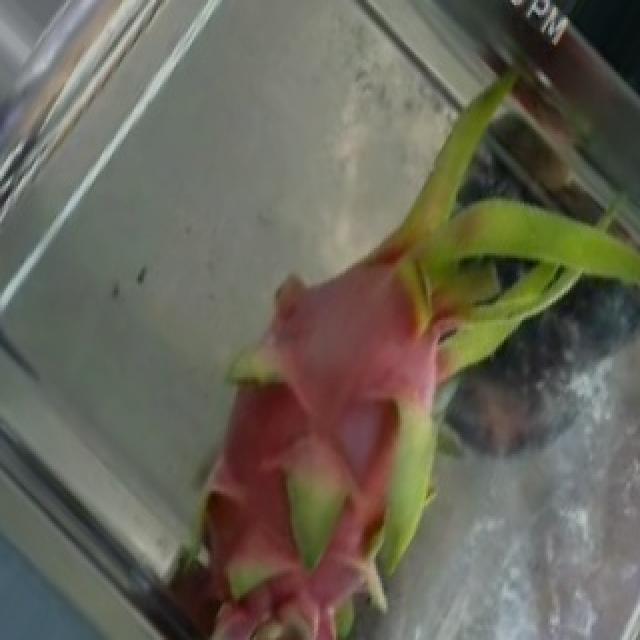fruit: (206, 223, 634, 638), (222, 8, 638, 424)
